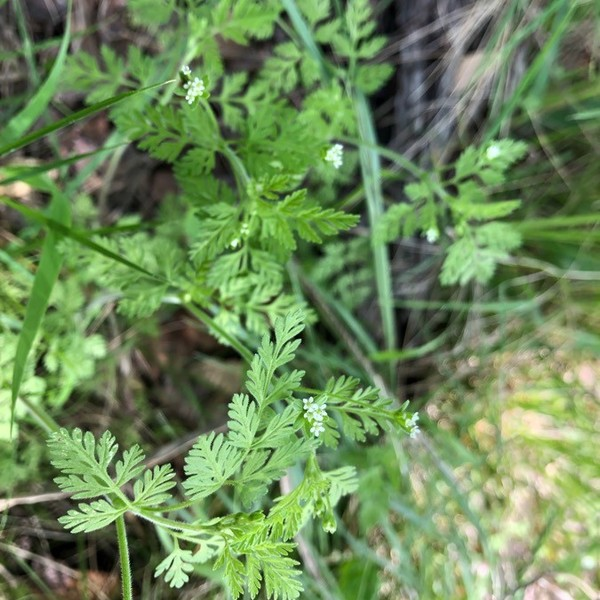obstacle: (137, 67, 397, 576)
